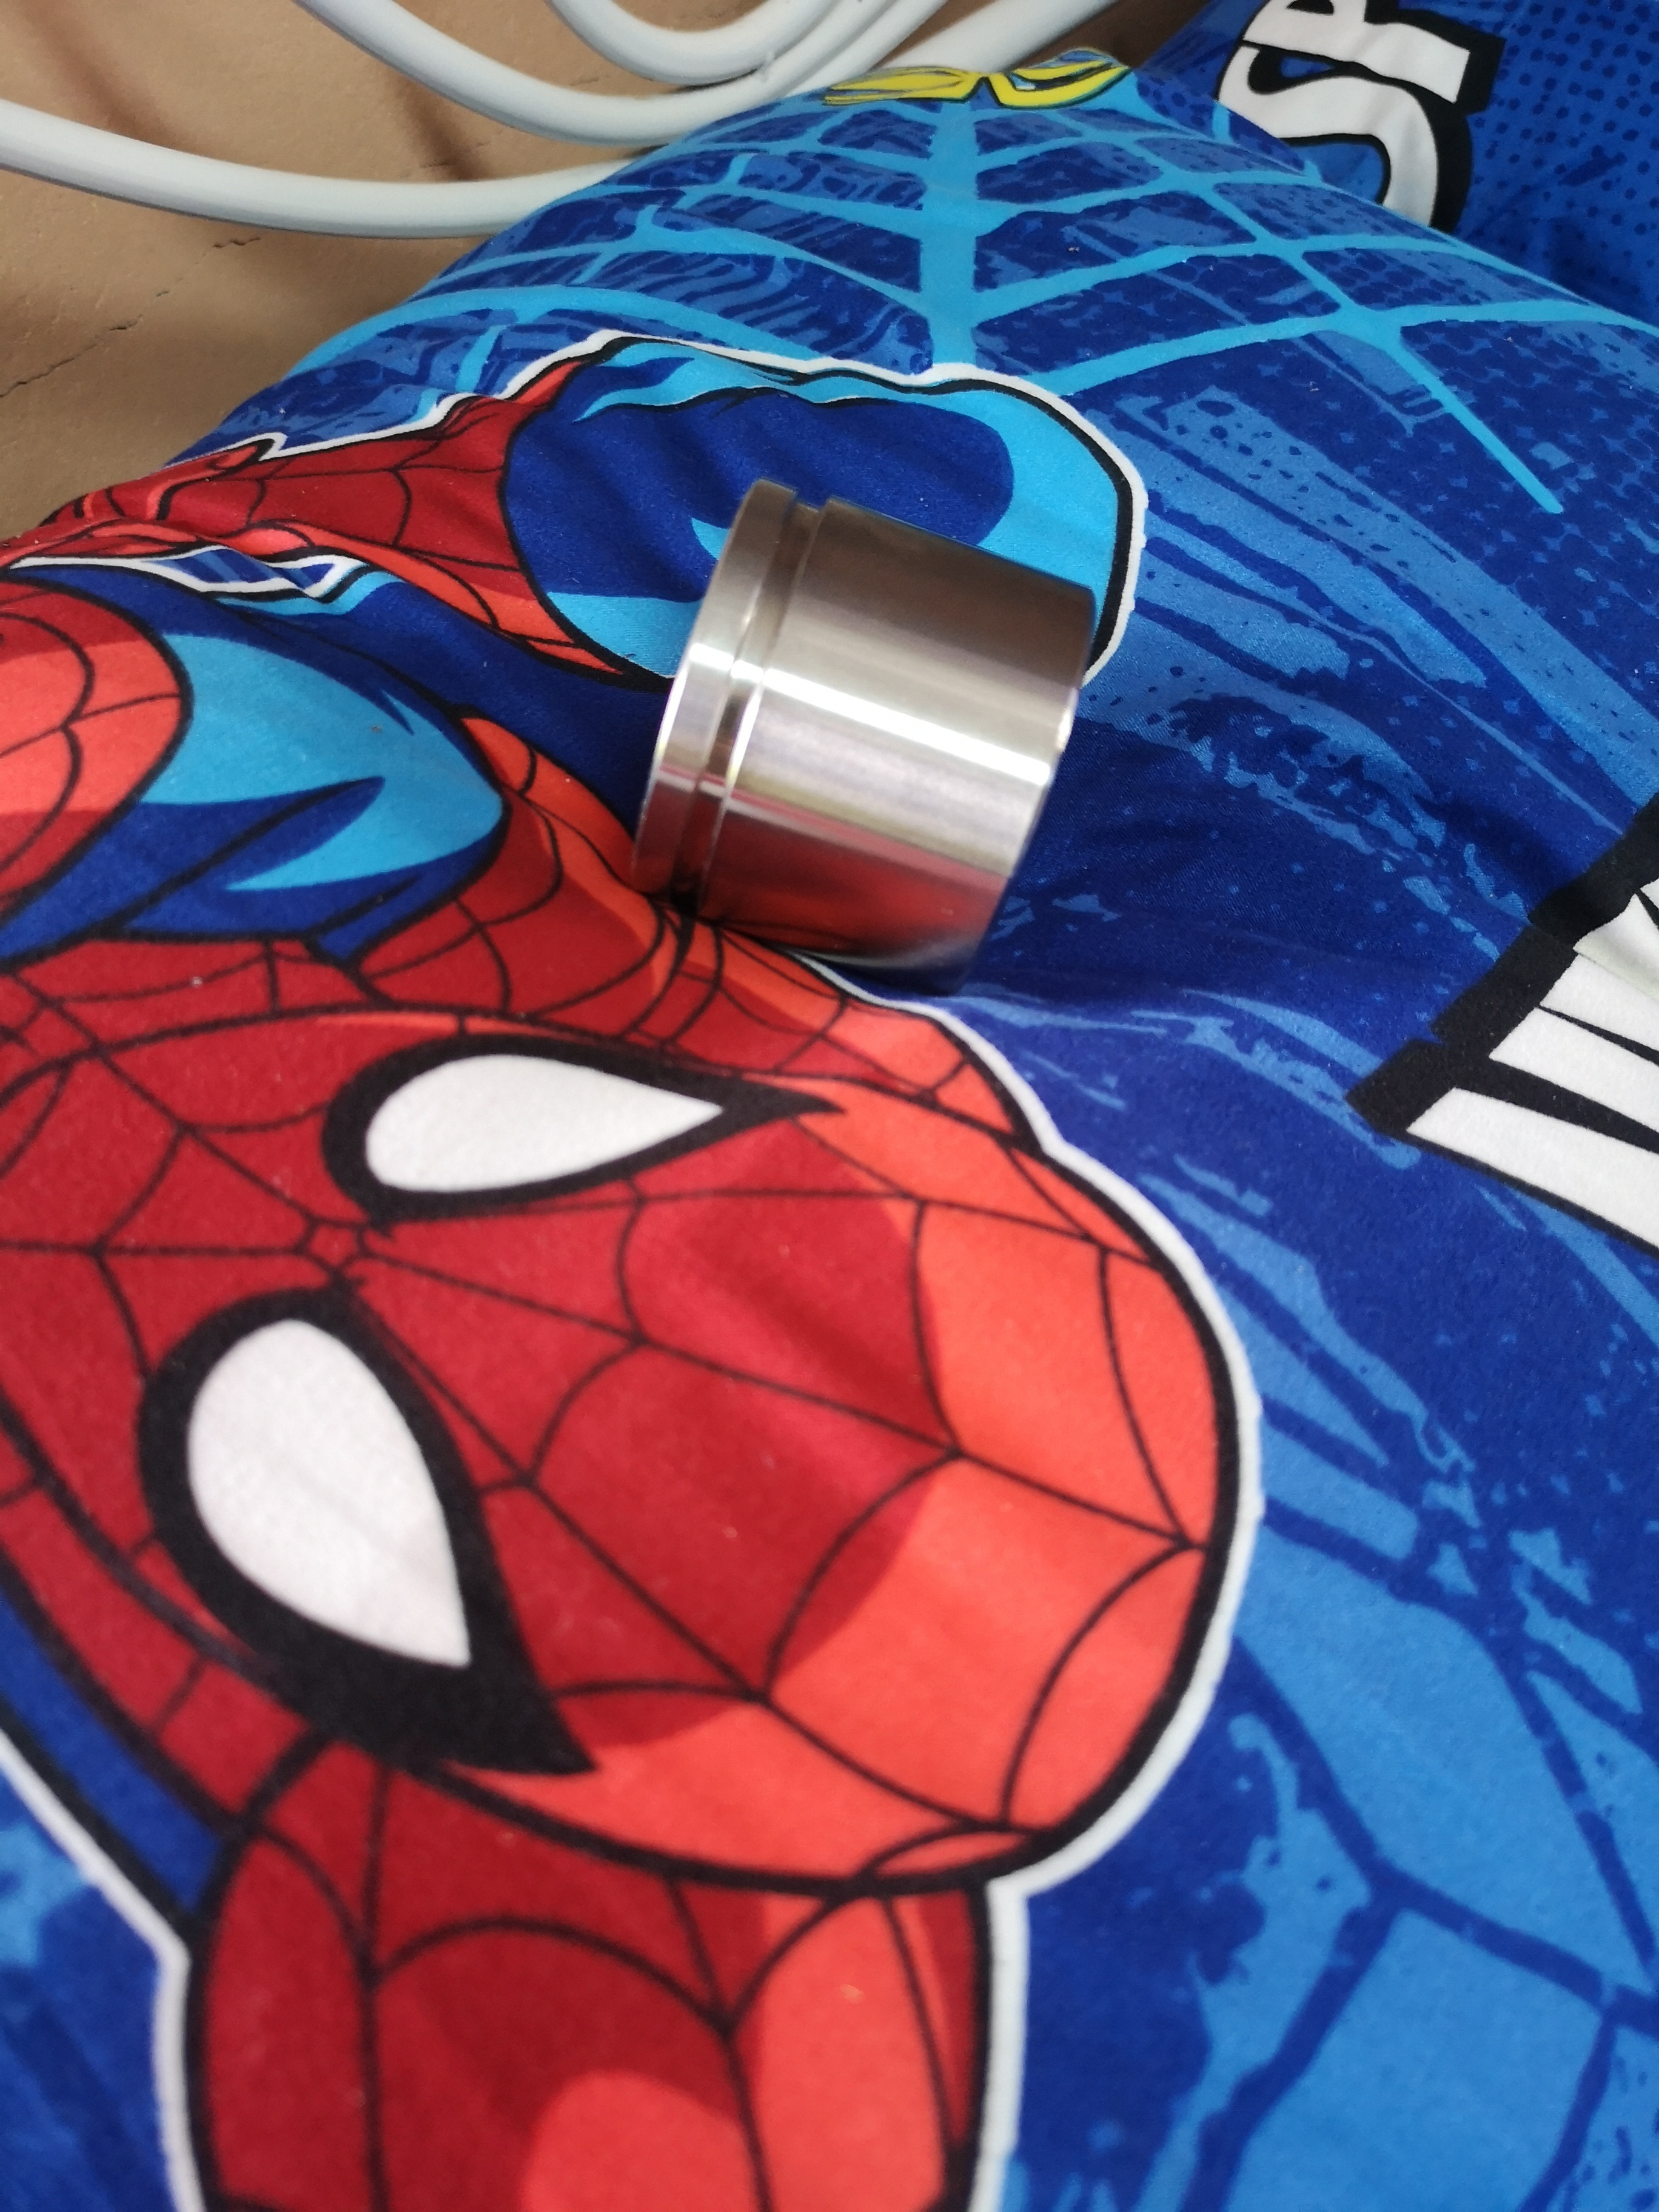ลูกสูบดิสเบรค: (554, 465, 1131, 1052)
